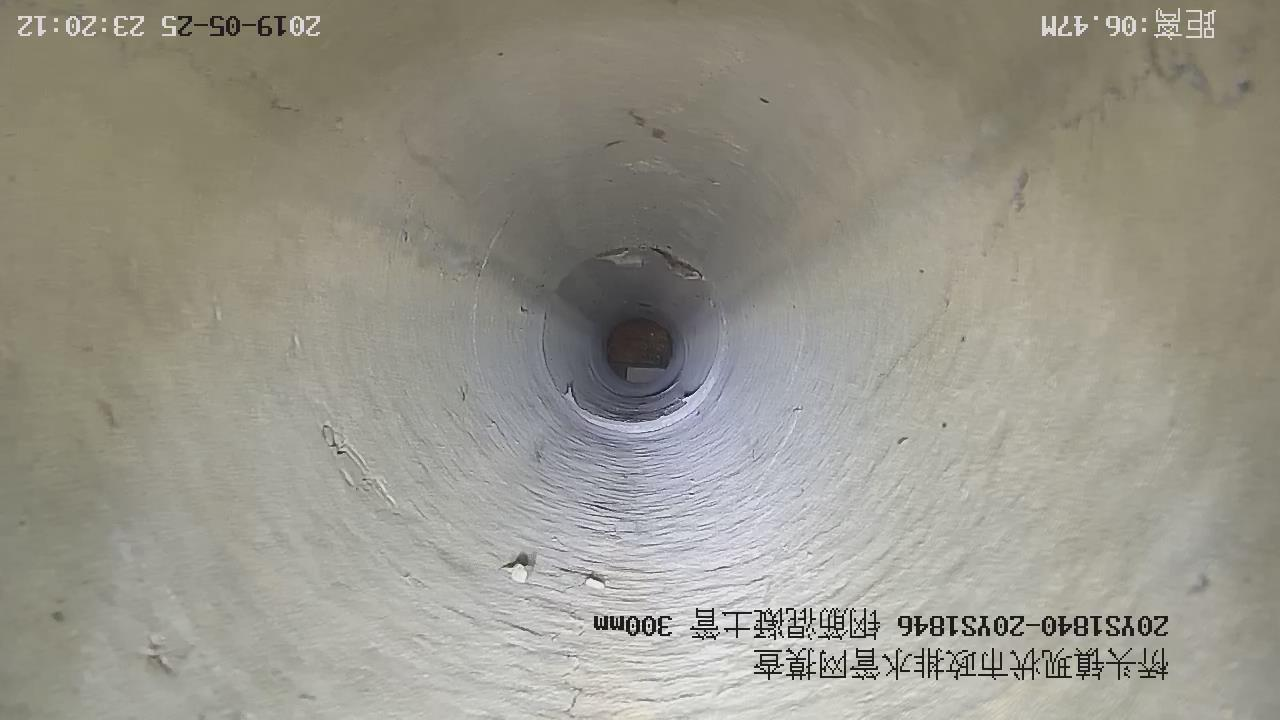CKTJ: (563, 304, 728, 434)
PL: (595, 247, 705, 281)
